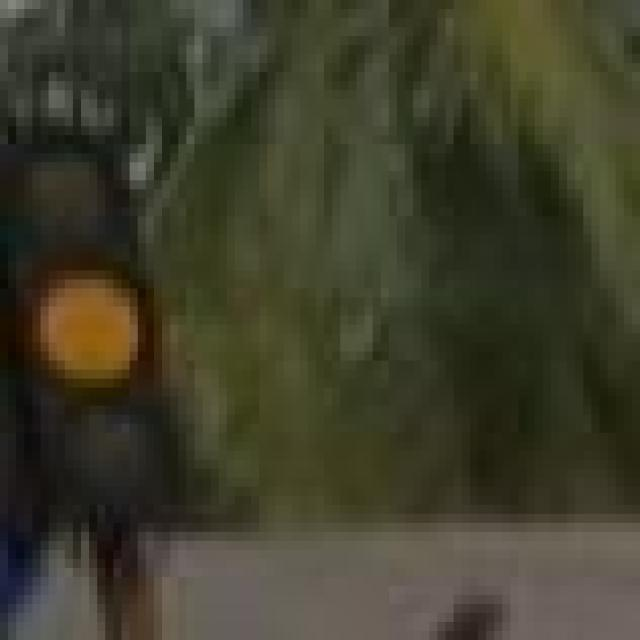yellow_light: (8, 126, 186, 532)
